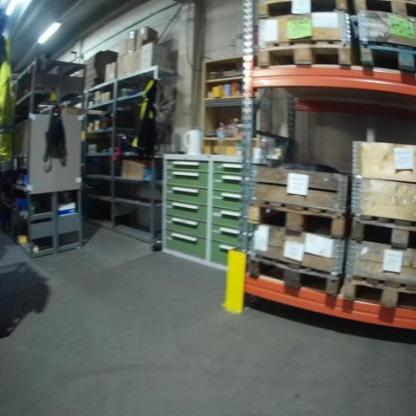pallet: (245, 201, 345, 241), (247, 254, 340, 297), (340, 274, 416, 309), (350, 212, 416, 251), (255, 41, 351, 67), (356, 41, 416, 72), (256, 0, 348, 20), (351, 0, 416, 18)
